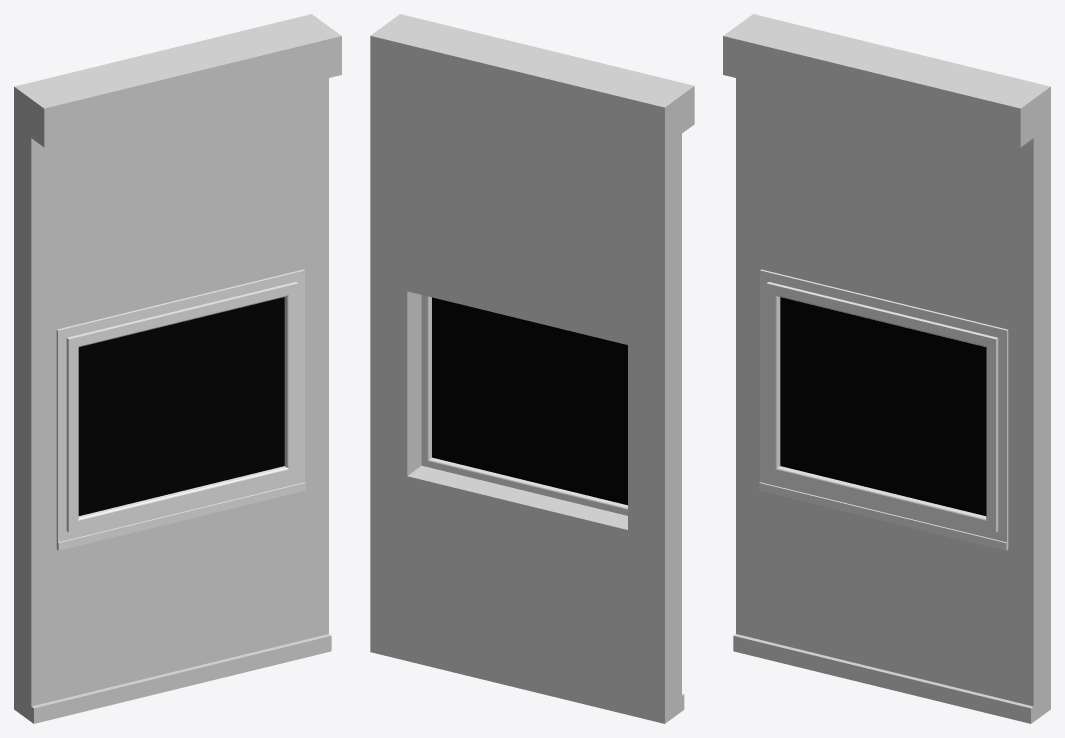
The model's file is Entrance_WallWindow.fbx.
3 views of the same model, side by side, from view 1: azimuth 30°, elevation 25°; view 2: azimuth 150°, elevation 25°; view 3: azimuth 330°, elevation 25° (orthographic).
Parts seen in each view (by area): view 1: Entrance_WallWindow; view 2: Entrance_WallWindow; view 3: Entrance_WallWindow.
Part boxes in pixels (box(x1,y1,x2,y2)): Entrance_WallWindow: box(14, 14, 341, 723); Entrance_WallWindow: box(370, 14, 694, 723); Entrance_WallWindow: box(723, 14, 1050, 723).
Bounding box in the file's own units: 2 × 4 × 0.35.
